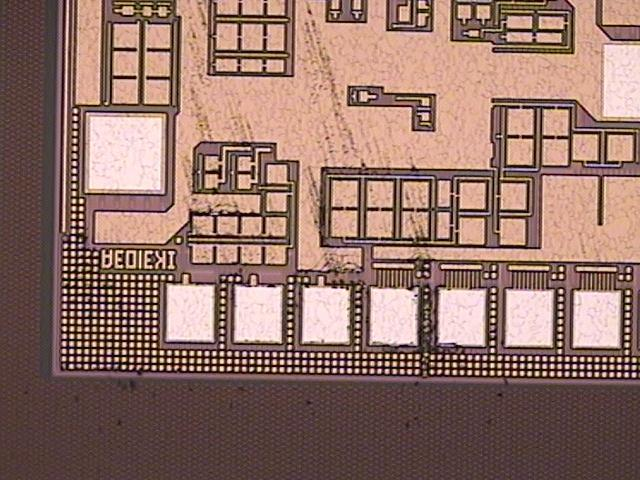SCRATCH: (170, 1, 480, 384)
